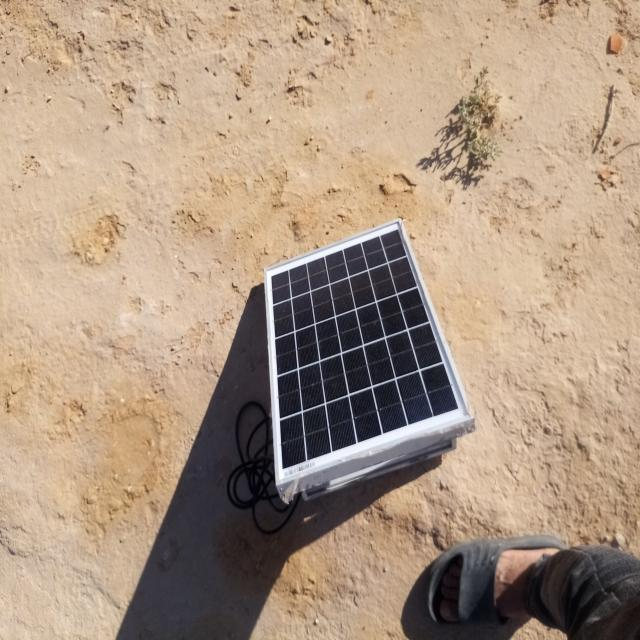no faulty: (264, 219, 472, 483)
